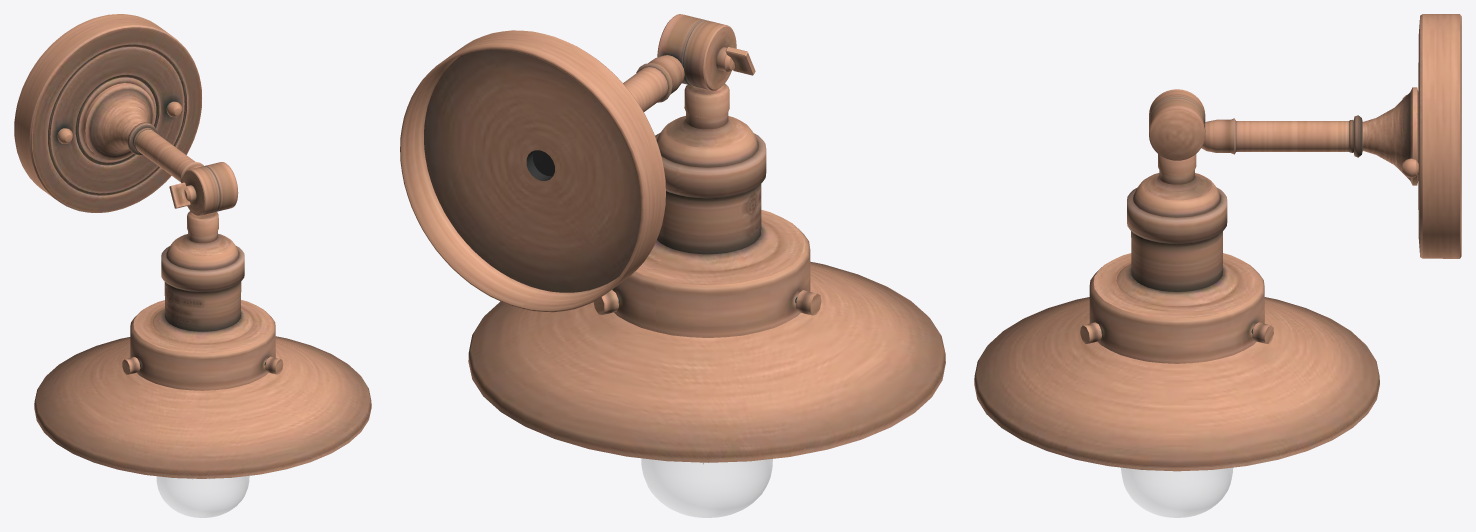
The model's file is barn-lamp.glb.
3 views of the same model, side by side, from view 1: azimuth 30°, elevation 25°; view 2: azimuth 150°, elevation 25°; view 3: azimuth 270°, elevation 25° (orthographic). The views are drawn at different scales.
Visible parts, largest first — view 1: Lamp Metal, Lamp Glass; view 2: Lamp Metal, Lamp Glass; view 3: Lamp Metal, Lamp Glass.
Boxes of the visible parts, box(x1,y1,x2,y2) form: Lamp Metal: box(14, 14, 371, 479); Lamp Glass: box(156, 476, 249, 517); Lamp Metal: box(400, 14, 945, 464); Lamp Glass: box(641, 458, 772, 517); Lamp Metal: box(974, 14, 1461, 471); Lamp Glass: box(1121, 467, 1233, 517).
Size of the model in its own units: 0.1908 by 0.2552 by 0.2265.
Materials: 3 (1 with a texture image).
